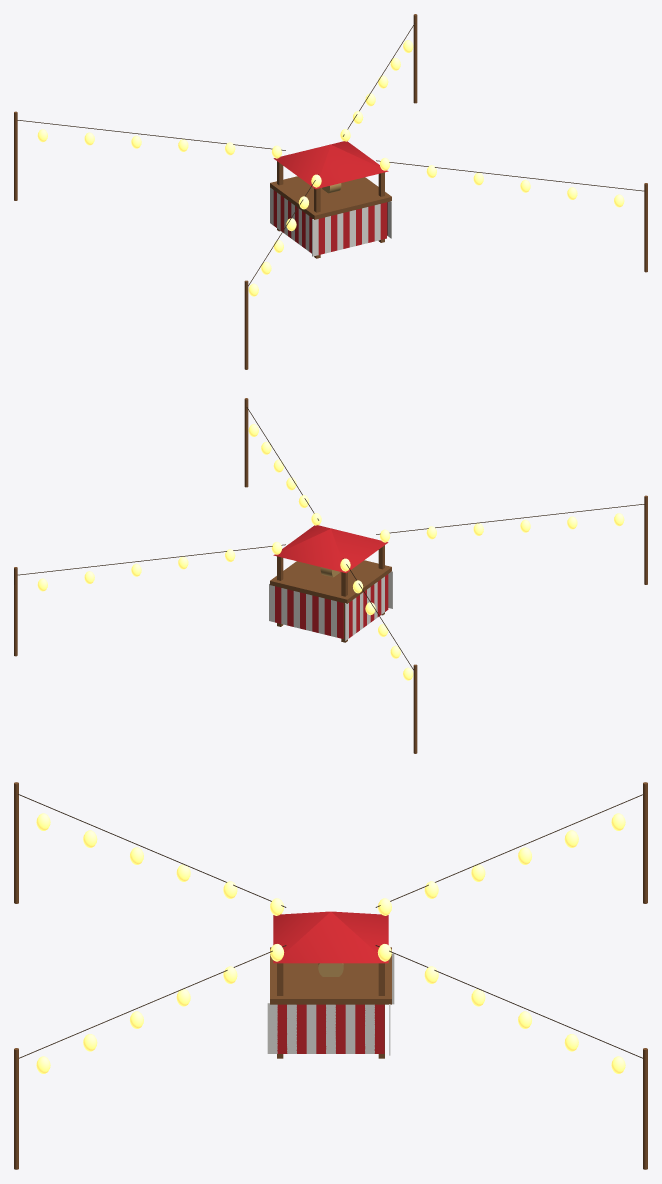
The model's file is yagura.glb.
The picture shows the model from 3 angles, top to bottom: view 1: azimuth 30°, elevation 25°; view 2: azimuth 150°, elevation 25°; view 3: azimuth 270°, elevation 25°; orthographic projection. The views are drawn at different scales.
Parts seen in each view (by area): view 1: yagura_body; view 2: yagura_body; view 3: yagura_body.
Boxes of the visible parts, box(x1,y1,x2,y2) form: yagura_body: box(14, 14, 647, 369); yagura_body: box(14, 398, 647, 753); yagura_body: box(14, 782, 647, 1169).
Size of the model in its own units: 24.95 by 5.4 by 24.95.
